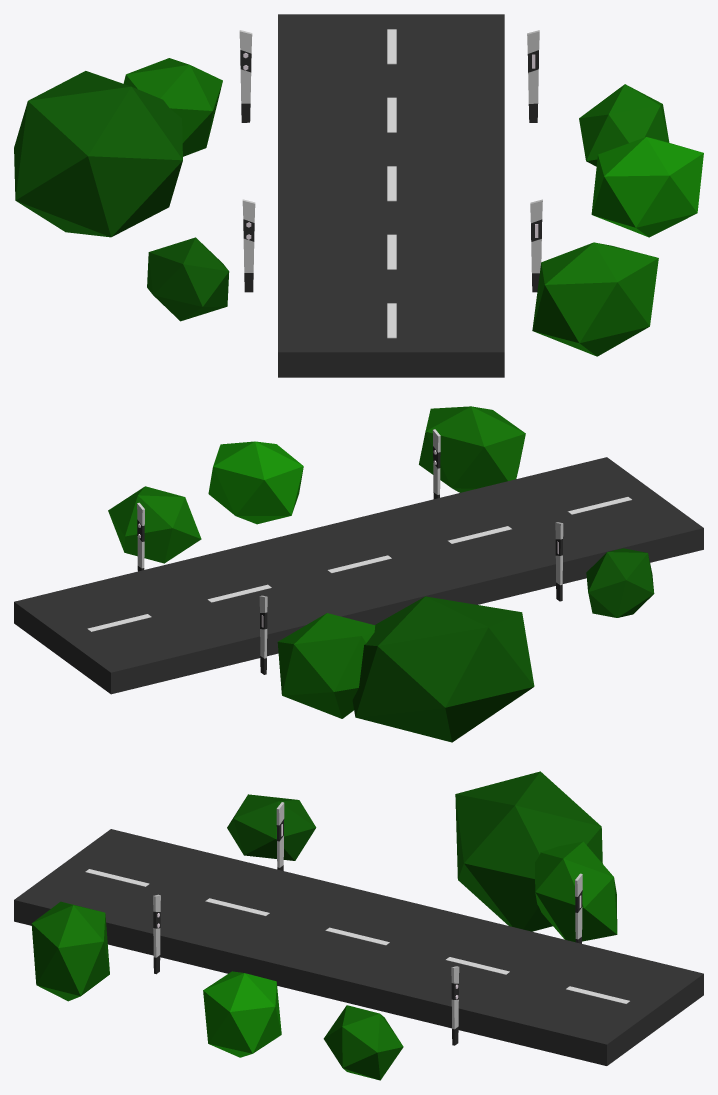
File: street2_03_2.fbx
3 views of the same model, one above another, from view 1: azimuth 30°, elevation 25°; view 2: azimuth 150°, elevation 25°; view 3: azimuth 270°, elevation 25° (orthographic). The views are drawn at different scales.
Visible parts, largest first — view 1: street03.002, bush.028, bush.031, bush.032, bush.027, bush.029, bush.030, penguin.013, penguin.012, laneMarkings.002; view 2: street03.002, bush.028, bush.029, bush.031, bush.032, bush.030, bush.027, laneMarkings.002, penguin.013, penguin.012; view 3: street03.002, bush.028, bush.029, bush.031, bush.032, bush.027, bush.030, laneMarkings.002, penguin.012, penguin.013.
Part boxes in pixels (x1=…): street03.002: x1=278, y1=14, x2=504, y2=377; bush.028: x1=14, y1=71, x2=182, y2=237; bush.031: x1=532, y1=242, x2=658, y2=356; bush.032: x1=591, y1=137, x2=703, y2=237; bush.027: x1=147, y1=237, x2=229, y2=321; bush.029: x1=123, y1=58, x2=222, y2=156; bush.030: x1=579, y1=84, x2=669, y2=166; penguin.013: x1=239, y1=30, x2=255, y2=292; penguin.012: x1=527, y1=30, x2=542, y2=292; laneMarkings.002: x1=387, y1=29, x2=396, y2=338; street03.002: x1=14, y1=457, x2=703, y2=694; bush.028: x1=352, y1=596, x2=534, y2=742; bush.029: x1=277, y1=613, x2=375, y2=718; bush.031: x1=419, y1=406, x2=525, y2=492; bush.032: x1=208, y1=441, x2=303, y2=524; bush.030: x1=108, y1=486, x2=201, y2=563; bush.027: x1=586, y1=548, x2=654, y2=617; laneMarkings.002: x1=87, y1=497, x2=631, y2=631; penguin.013: x1=259, y1=522, x2=563, y2=674; penguin.012: x1=137, y1=429, x2=440, y2=571; street03.002: x1=14, y1=829, x2=703, y2=1065; bush.028: x1=455, y1=771, x2=602, y2=931; bush.029: x1=535, y1=841, x2=617, y2=942; bush.031: x1=31, y1=901, x2=109, y2=1001; bush.032: x1=203, y1=971, x2=281, y2=1057; bush.027: x1=227, y1=794, x2=316, y2=860; bush.030: x1=323, y1=1005, x2=403, y2=1080; laneMarkings.002: x1=85, y1=869, x2=629, y2=1003; penguin.012: x1=153, y1=894, x2=459, y2=1045; penguin.013: x1=276, y1=802, x2=582, y2=943.
Bounding box in the file's own units: 81.65 × 19.89 × 99.3.
